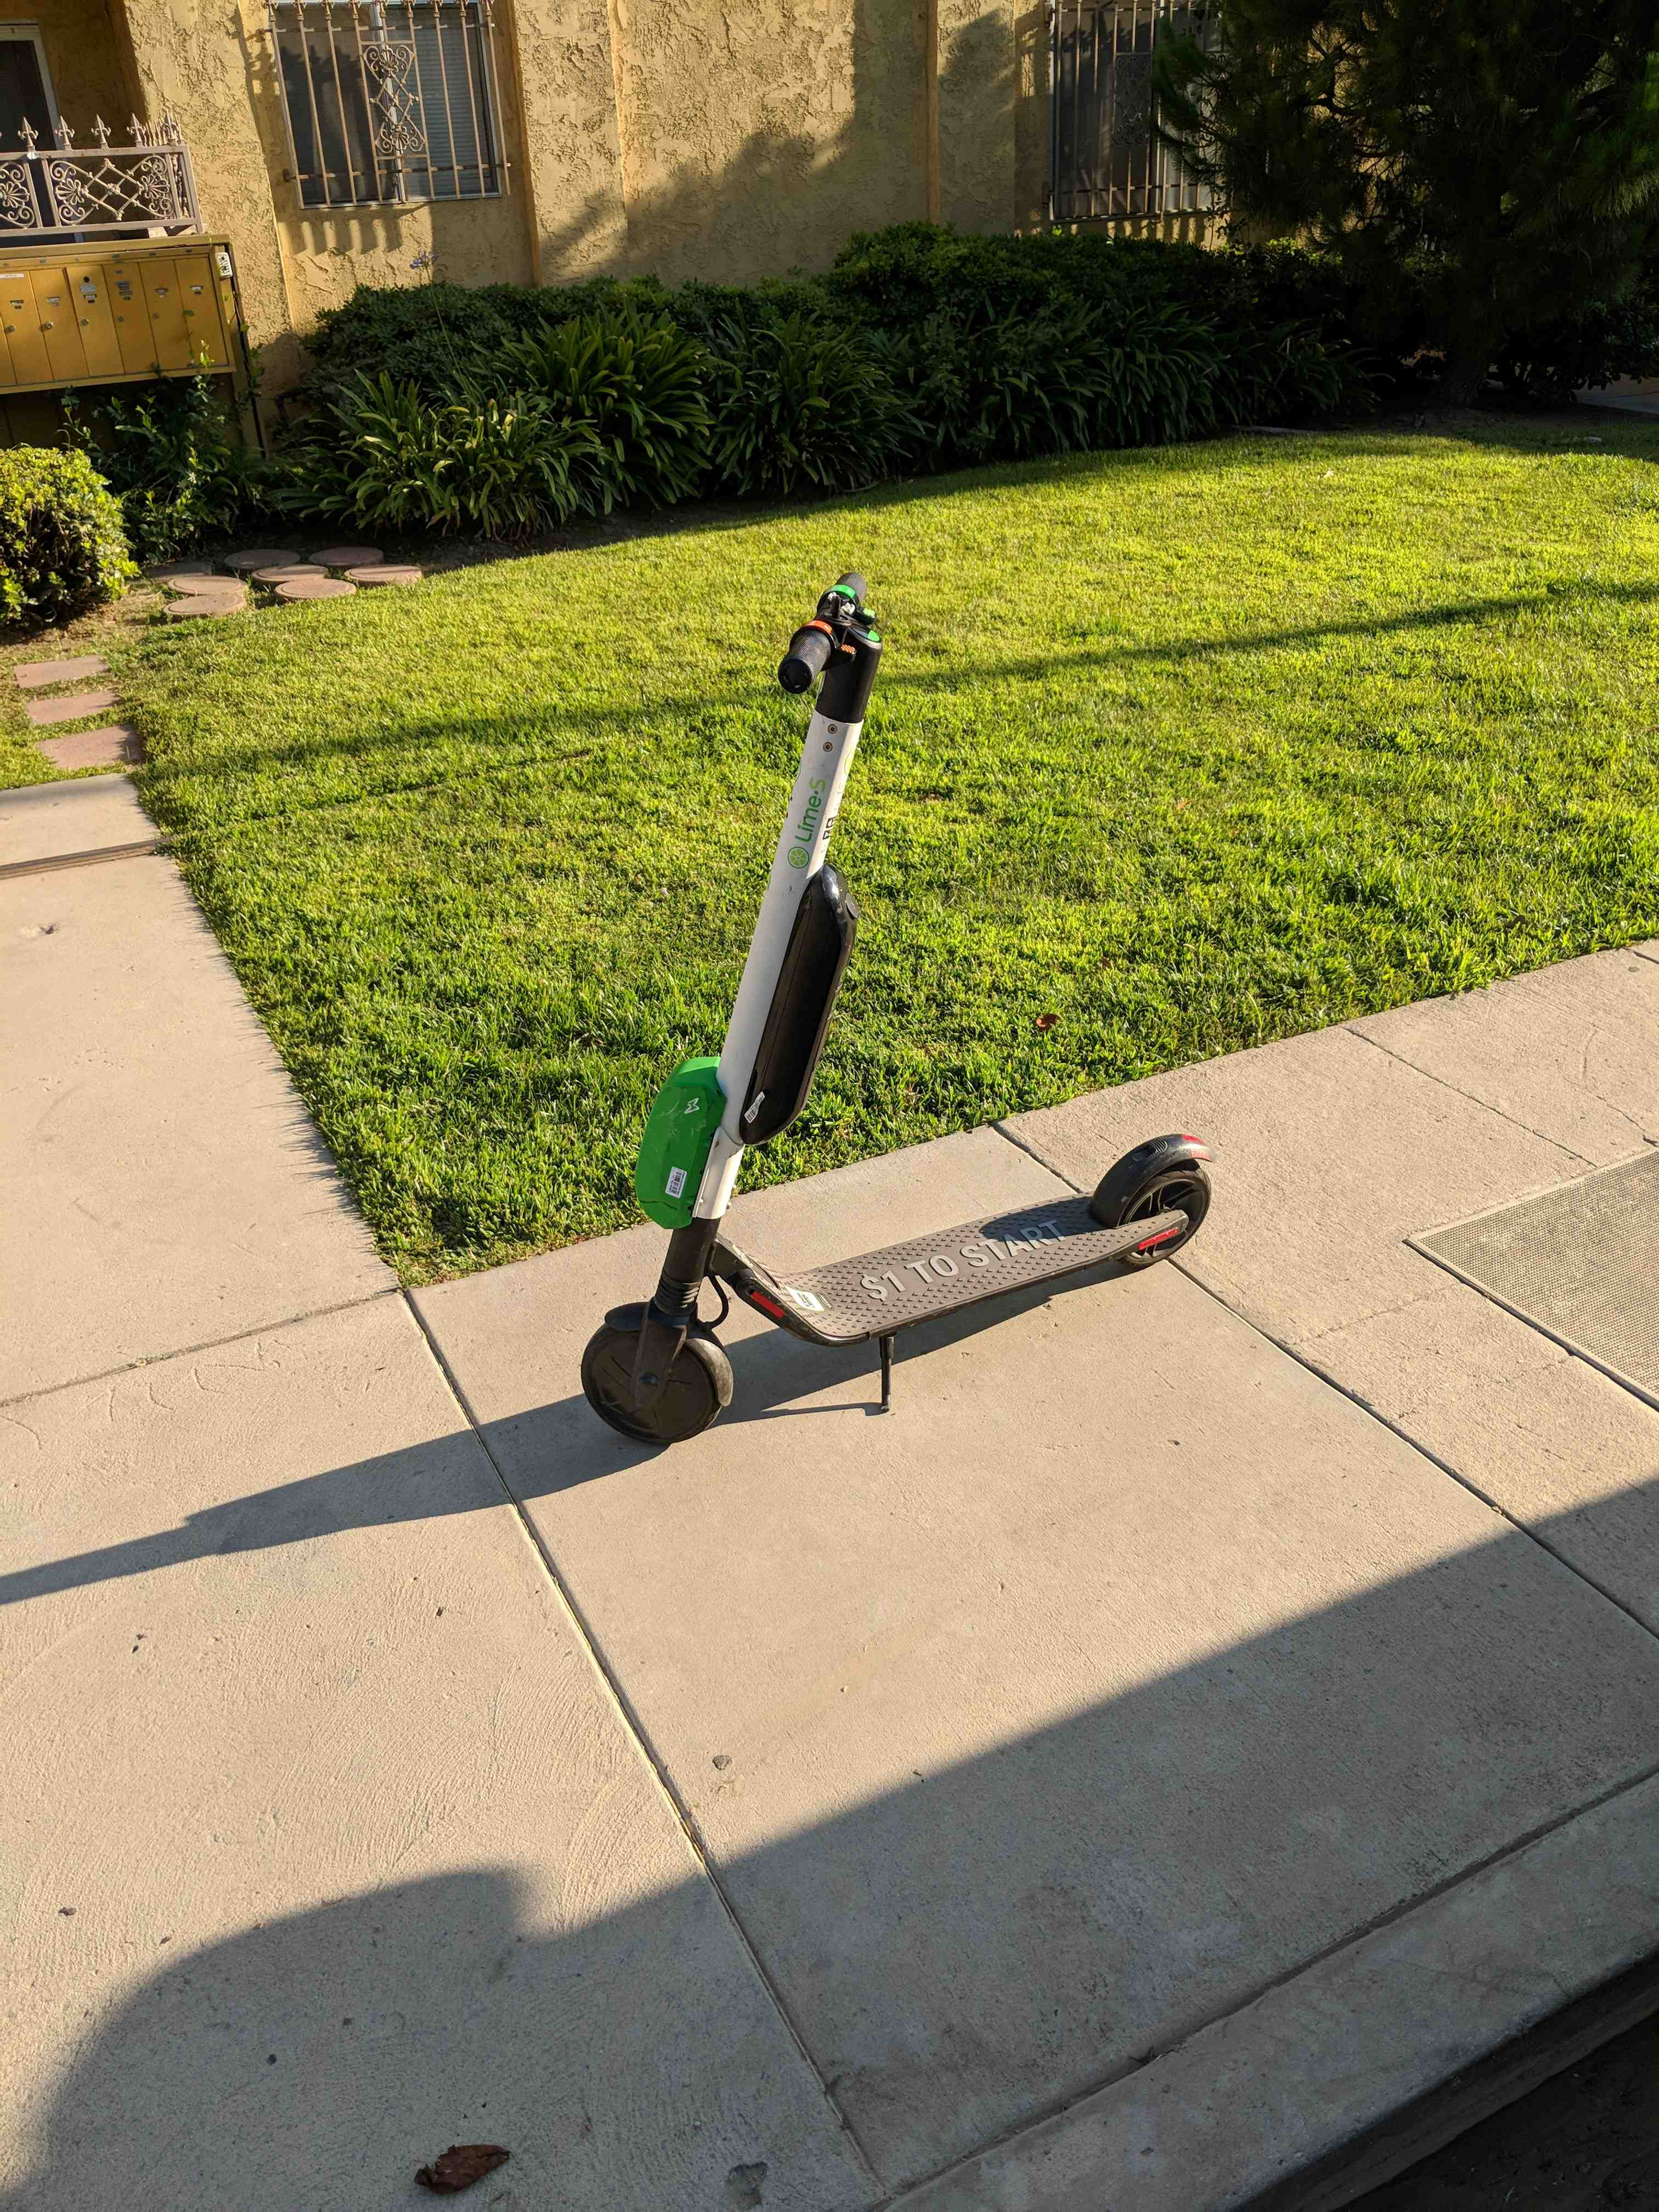scooter: (579, 523, 1239, 1480)
